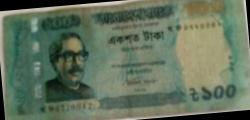100 taka: (8, 8, 249, 111)
